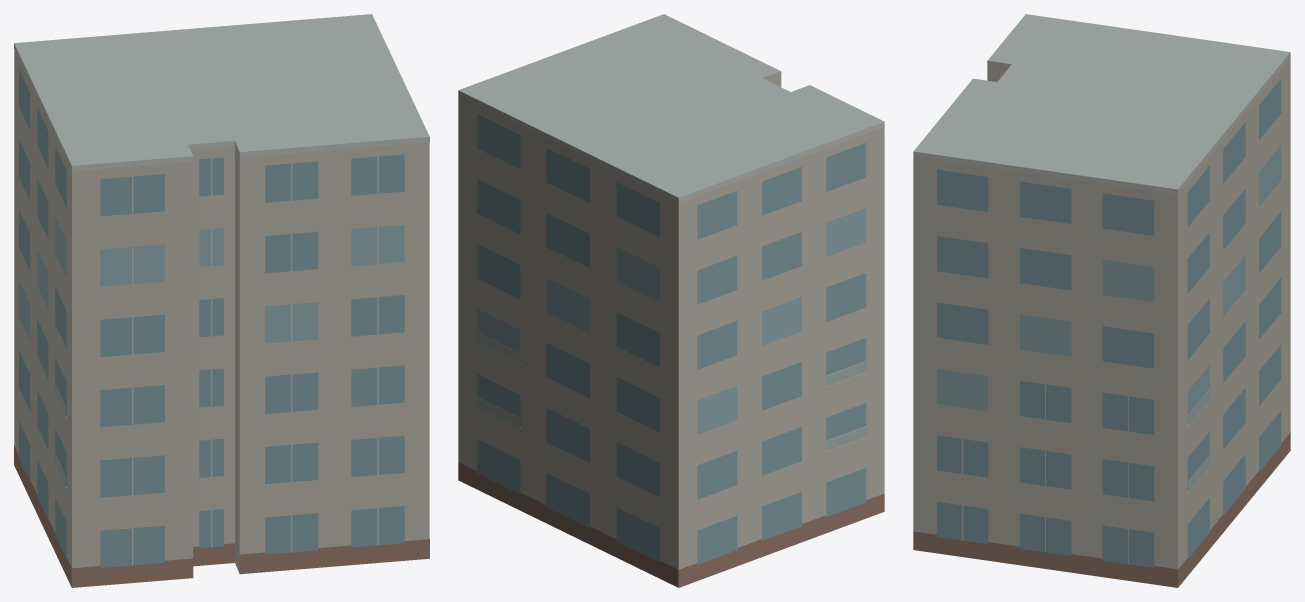
Rendered from survey-upis-32890568.glb.
3 renders of one model, left to right at view 1: azimuth 30°, elevation 25°; view 2: azimuth 150°, elevation 25°; view 3: azimuth 270°, elevation 25°, orthographic. The views are drawn at different scales.
Visible parts, largest first — view 1: survey-upis-32890568.tmp; view 2: survey-upis-32890568.tmp; view 3: survey-upis-32890568.tmp.
Part boxes in pixels (box(x1,y1,x2,y2)): survey-upis-32890568.tmp: box(14, 14, 429, 587); survey-upis-32890568.tmp: box(458, 14, 884, 587); survey-upis-32890568.tmp: box(913, 14, 1290, 587).
Size of the model in its own units: 17.29 by 18.3 by 15.72.
